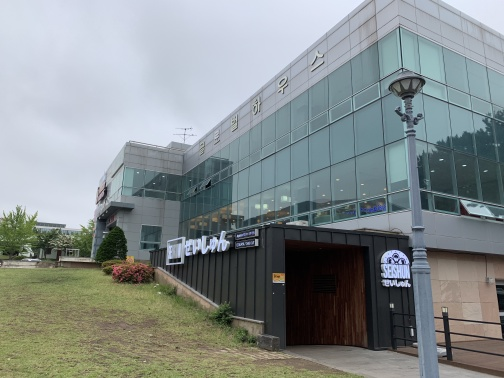Global House: (89, 21, 487, 340)
